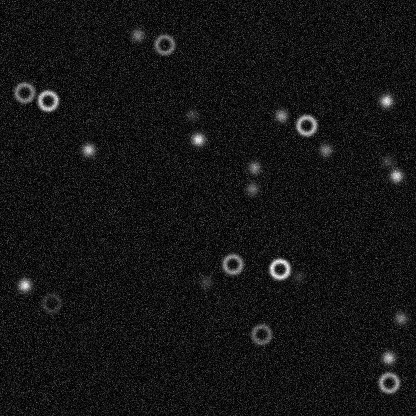Ring: (12, 80, 36, 104), (35, 88, 59, 112), (152, 32, 176, 56), (376, 370, 400, 394), (294, 113, 318, 137), (220, 252, 244, 276), (39, 291, 63, 315), (249, 322, 273, 346), (267, 256, 291, 280)
Spot: (197, 273, 213, 289), (129, 26, 145, 42), (183, 106, 199, 122), (380, 349, 396, 365), (379, 153, 395, 169), (80, 141, 96, 157), (388, 167, 404, 183), (189, 131, 205, 147), (317, 141, 333, 157), (392, 310, 408, 326), (378, 92, 394, 108), (244, 180, 260, 196), (289, 268, 305, 284), (16, 277, 32, 293), (246, 159, 262, 175), (273, 107, 289, 123)
